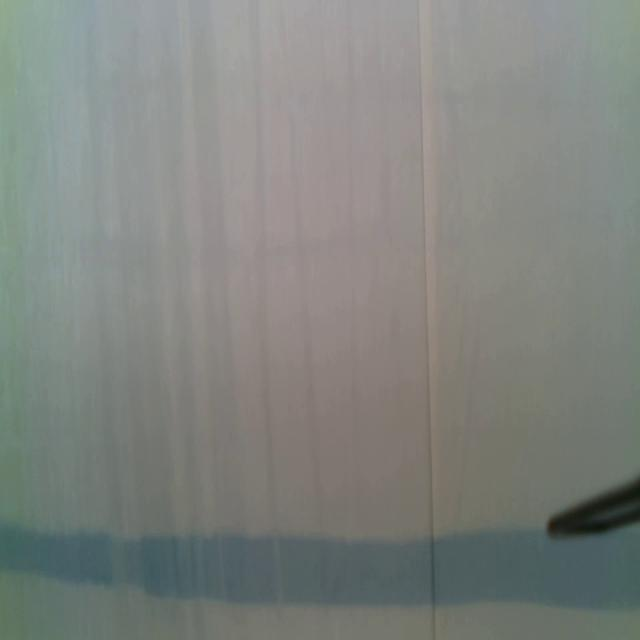color bleeding: (1, 512, 547, 608)
crease: (417, 1, 437, 640)
